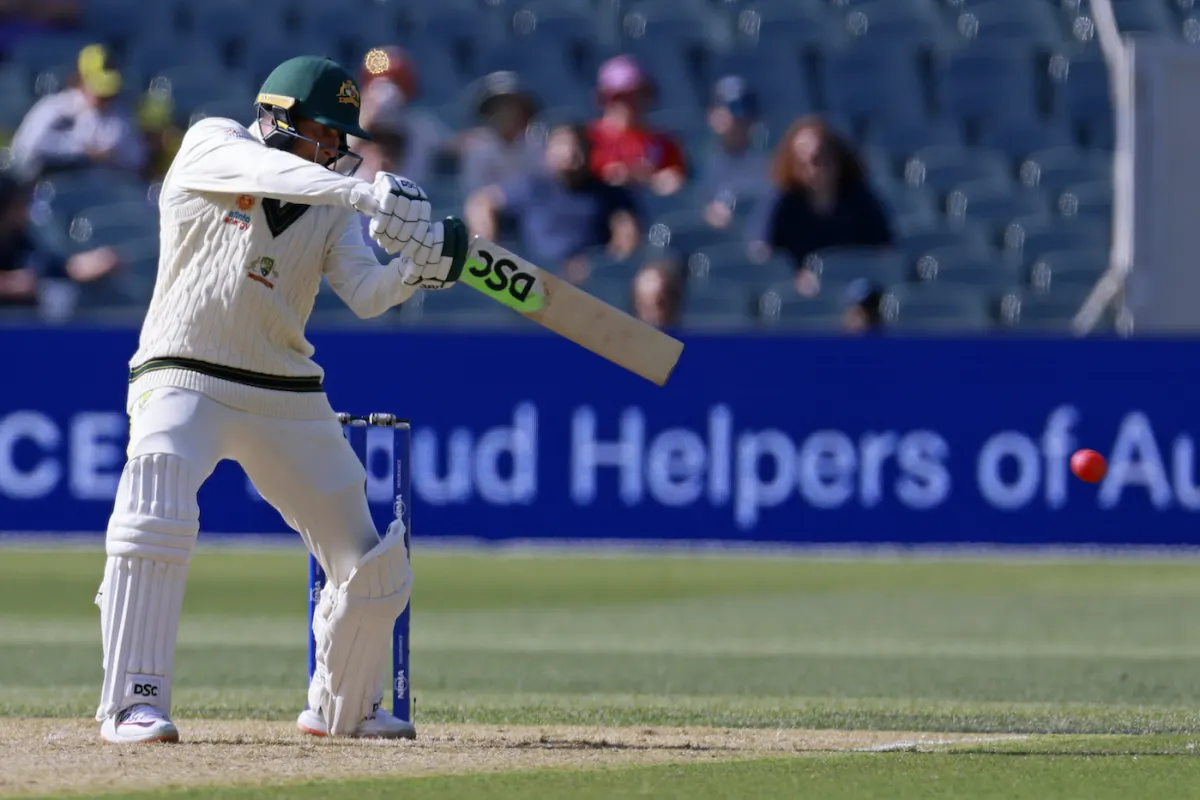Cutshot: (86, 3, 727, 800)
